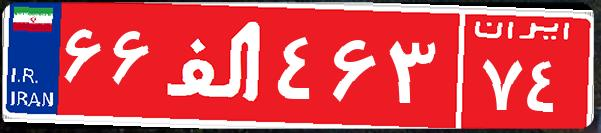3: (385, 28, 445, 110)
4: (273, 28, 330, 110), (525, 38, 570, 115)
6: (330, 28, 385, 110), (57, 26, 110, 107), (110, 28, 158, 105)
7: (475, 38, 525, 113)
الف: (158, 15, 273, 115)
